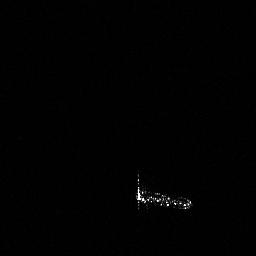ship: (131, 169, 196, 213)
